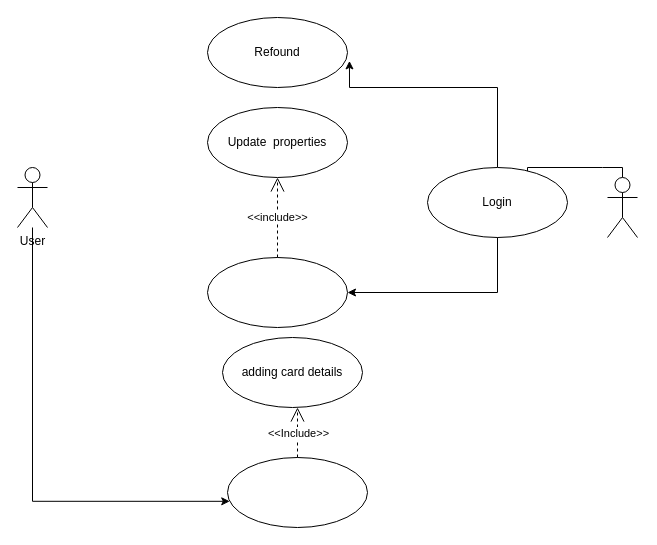
This 657x545 diagram has some shape labels left out. The shapes that lost their labels are listed below. From the top down, each one's centre as x and y in pixels, then its label:
[622,207]: Admin
[277,292]: Submit properties' change
[297,492]: Transfering money
